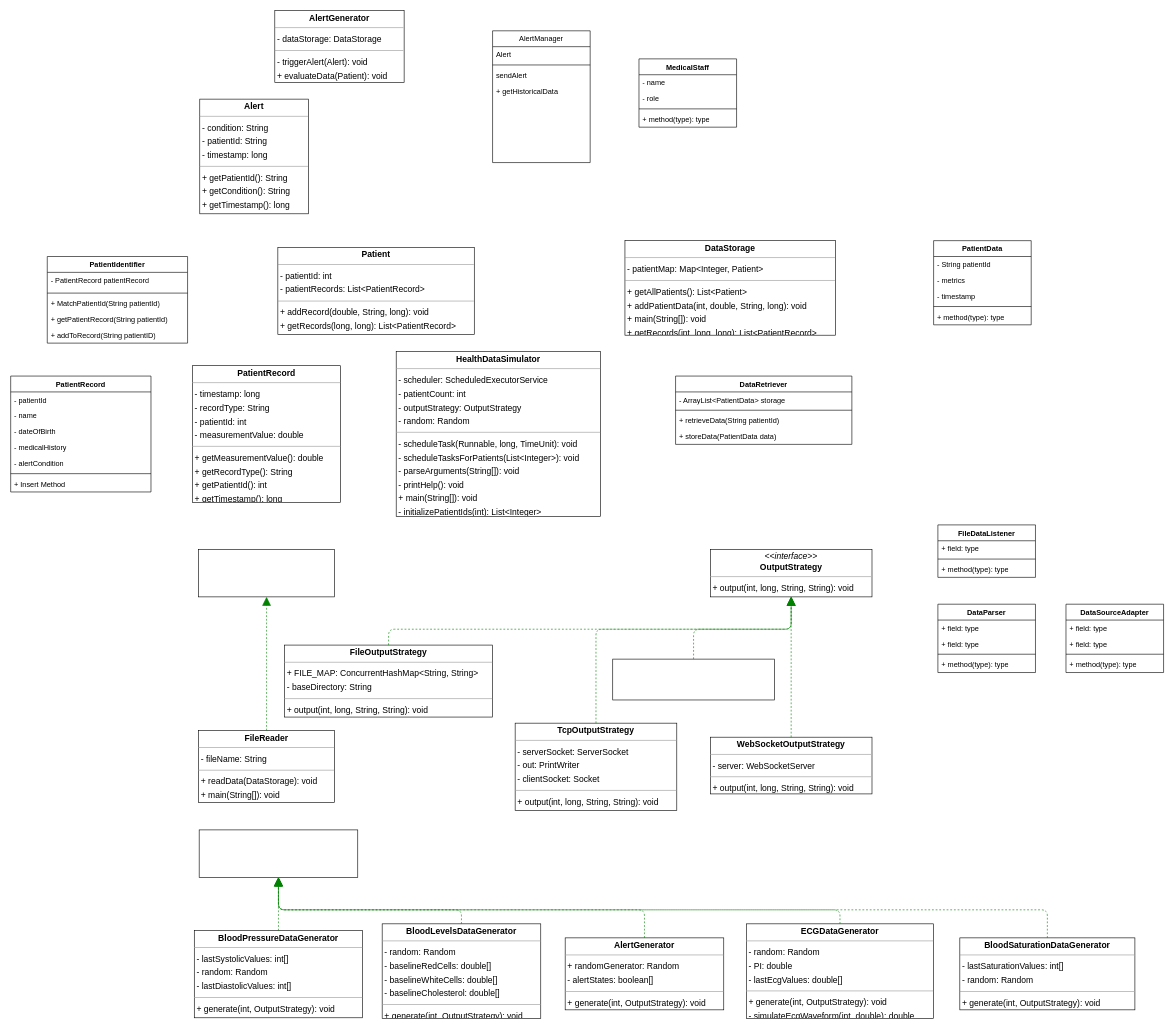
The diagram is 1174 pixels wide and 1031 high, and some of its shapes have lost their labels. Here are the shapes that lost their labels. From the top down, the centre of each, then its label:
point 266,573: <<interface>> DataReader + readData(DataStorage): void
point 693,679: ConsoleOutputStrategy + output(int, long, String, String): void
point 278,853: <<interface>> PatientDataGenerator + generate(int, OutputStrategy): void
